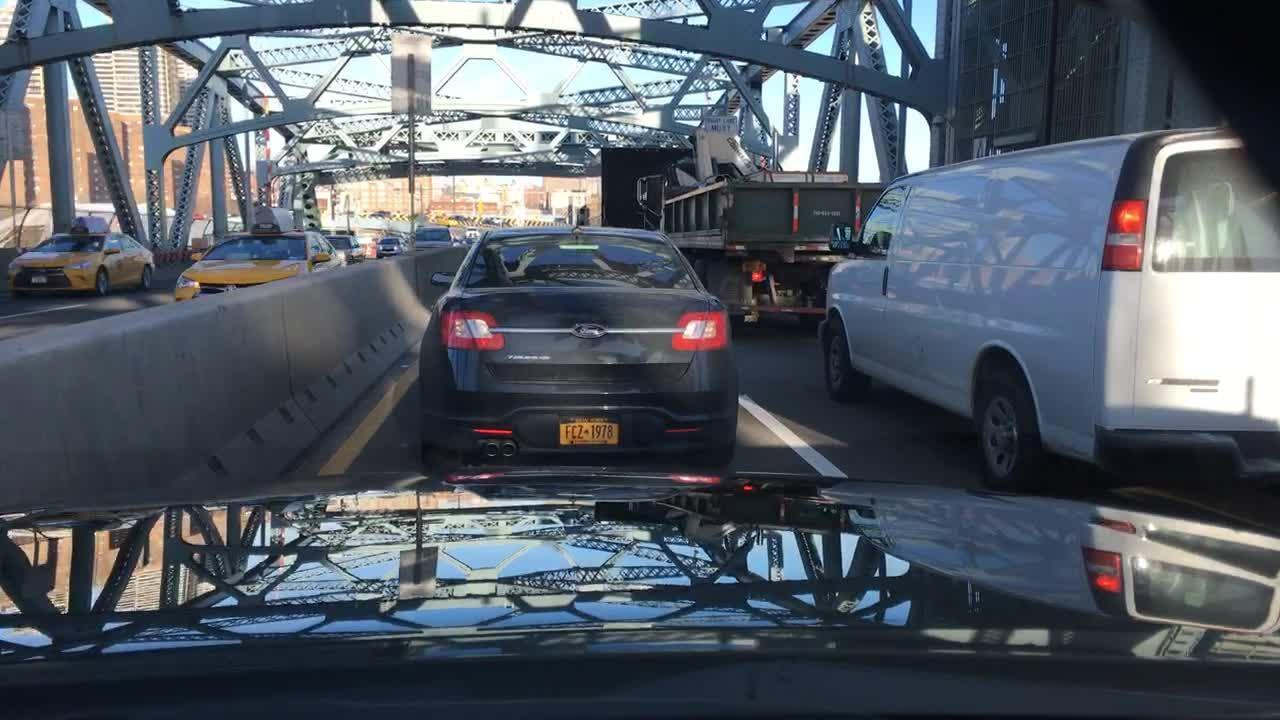ford: (569, 319, 613, 347)
